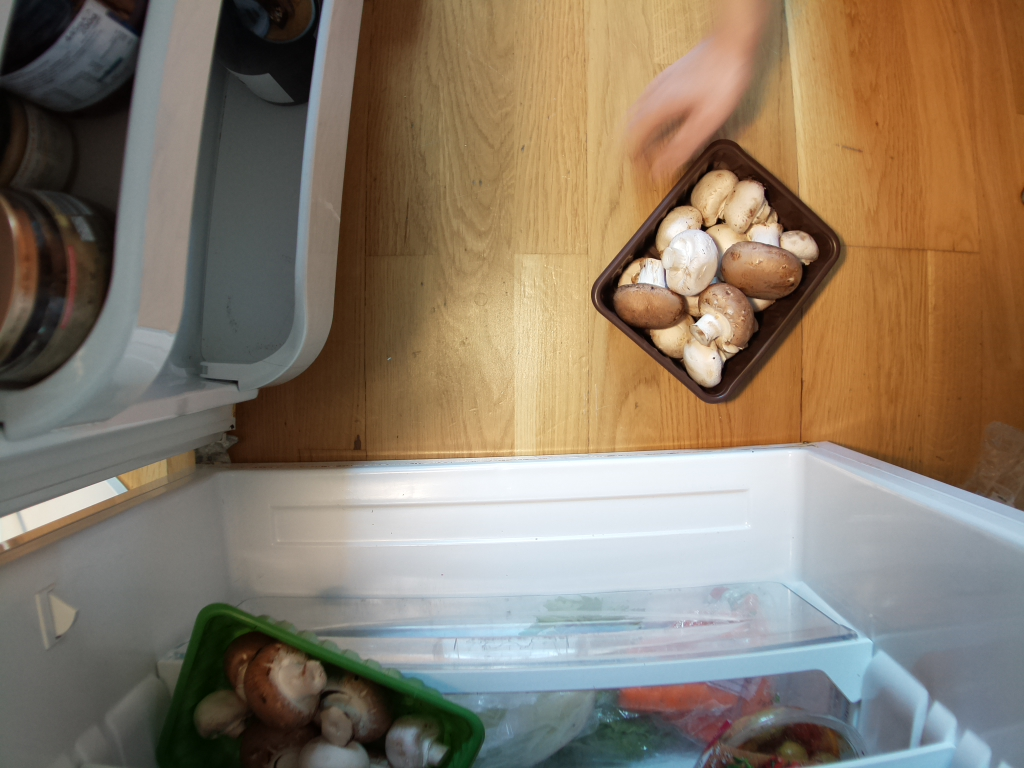mushrooms: (594, 139, 841, 407), (136, 604, 473, 768)
